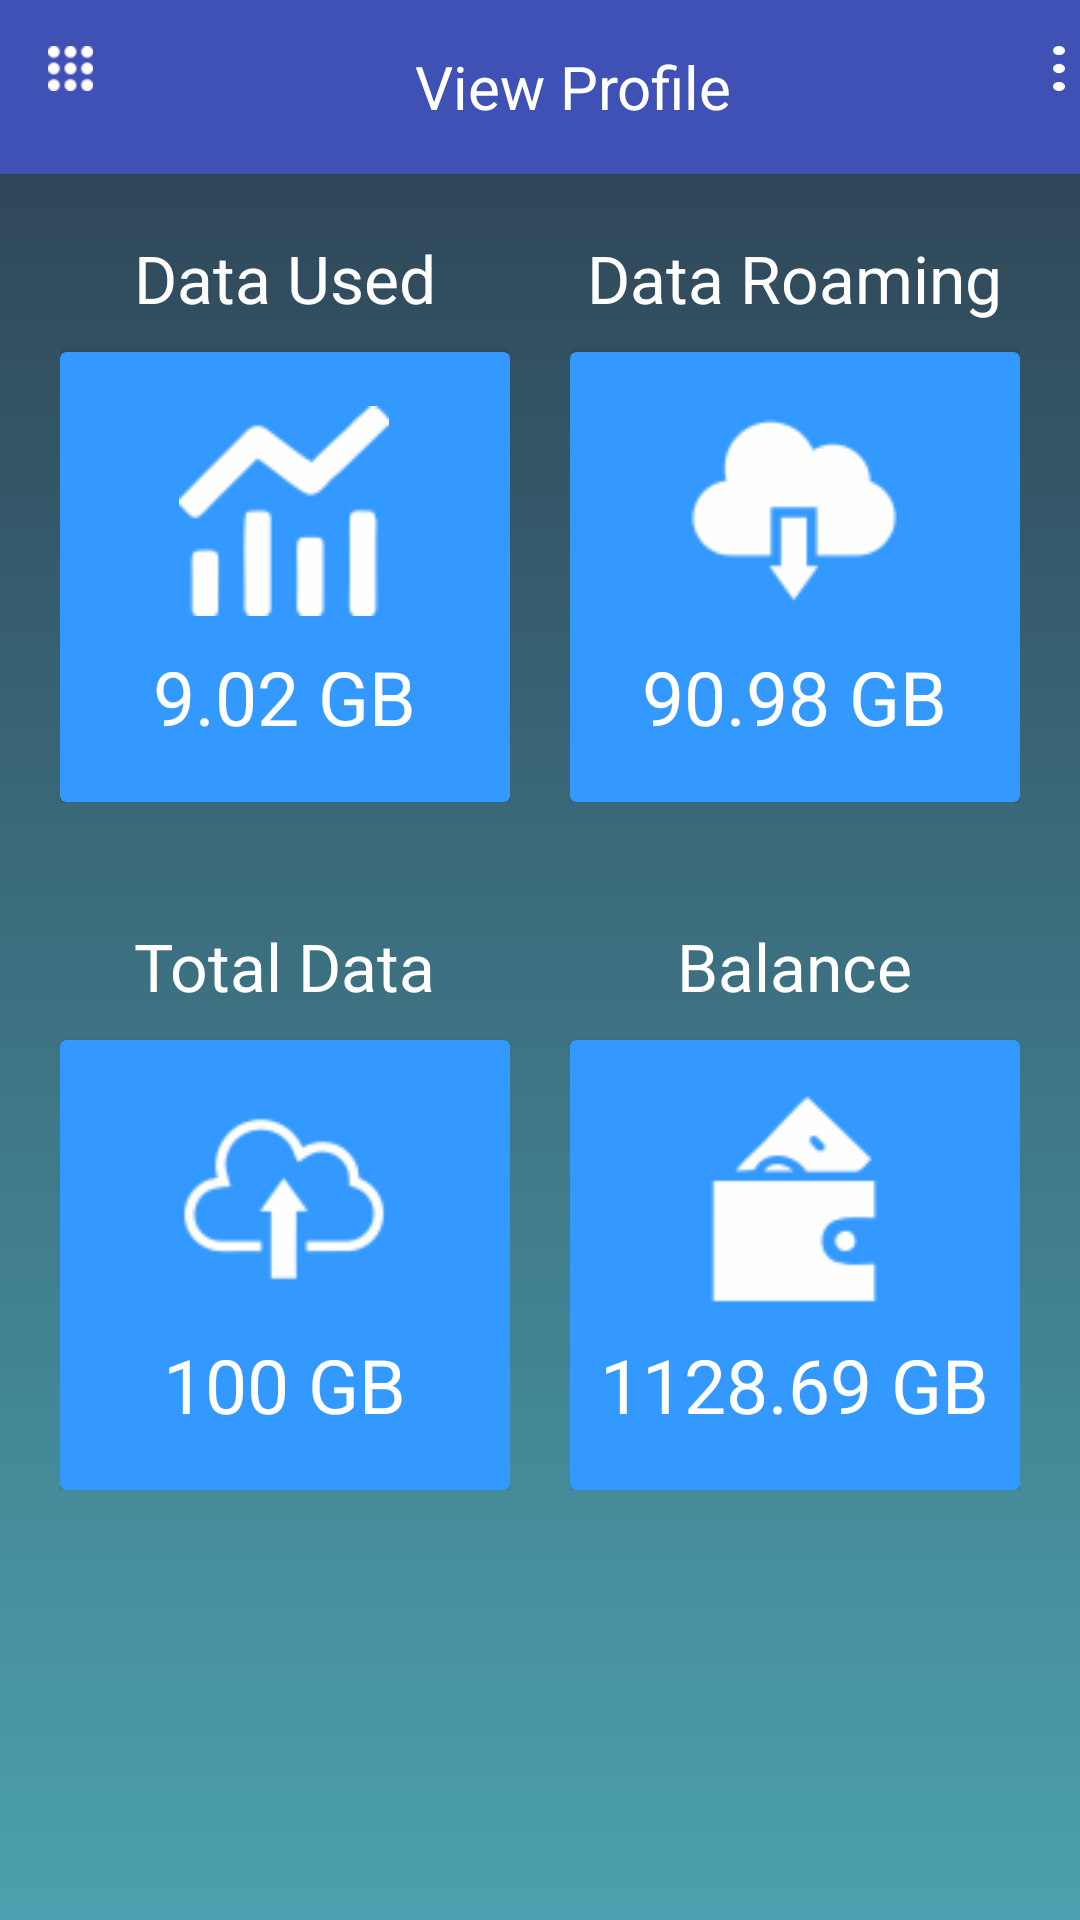

Screen size 1080 × 1920. Icon name, then its center in pixels as (x,y):
drawerleft: (70,68)
